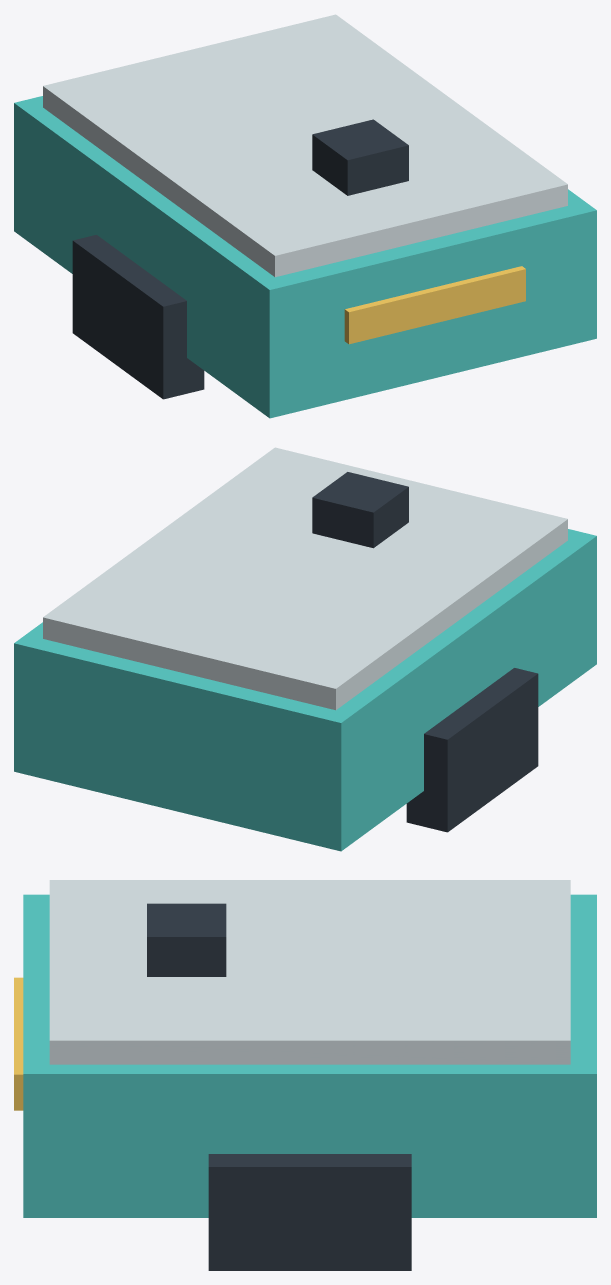
File: warehouse-amr.glb
3 renders of one model, top to bottom at view 1: azimuth 30°, elevation 25°; view 2: azimuth 150°, elevation 25°; view 3: azimuth 270°, elevation 25°, orthographic. The views are drawn at different scales.
Parts seen in each view (by area): view 1: Deck, Body, Left wheel, Front +Z, Sensor; view 2: Body, Deck, Left wheel, Sensor; view 3: Deck, Body, Right wheel, Sensor, Front +Z.
Boxes of the visible parts, x1,y1,x2,y2 form: Deck: (43, 14, 567, 277); Body: (14, 96, 596, 418); Left wheel: (72, 235, 204, 399); Front +Z: (344, 266, 525, 344); Sensor: (312, 119, 408, 195); Body: (14, 529, 596, 851); Deck: (43, 447, 567, 710); Left wheel: (406, 668, 538, 832); Sensor: (312, 472, 408, 548); Deck: (49, 880, 570, 1064); Body: (23, 894, 596, 1217); Right wheel: (208, 1154, 411, 1270); Sensor: (147, 903, 226, 976); Front +Z: (14, 977, 23, 1110).
Size of the model in its own units: 1.1 by 0.62 by 1.32.
